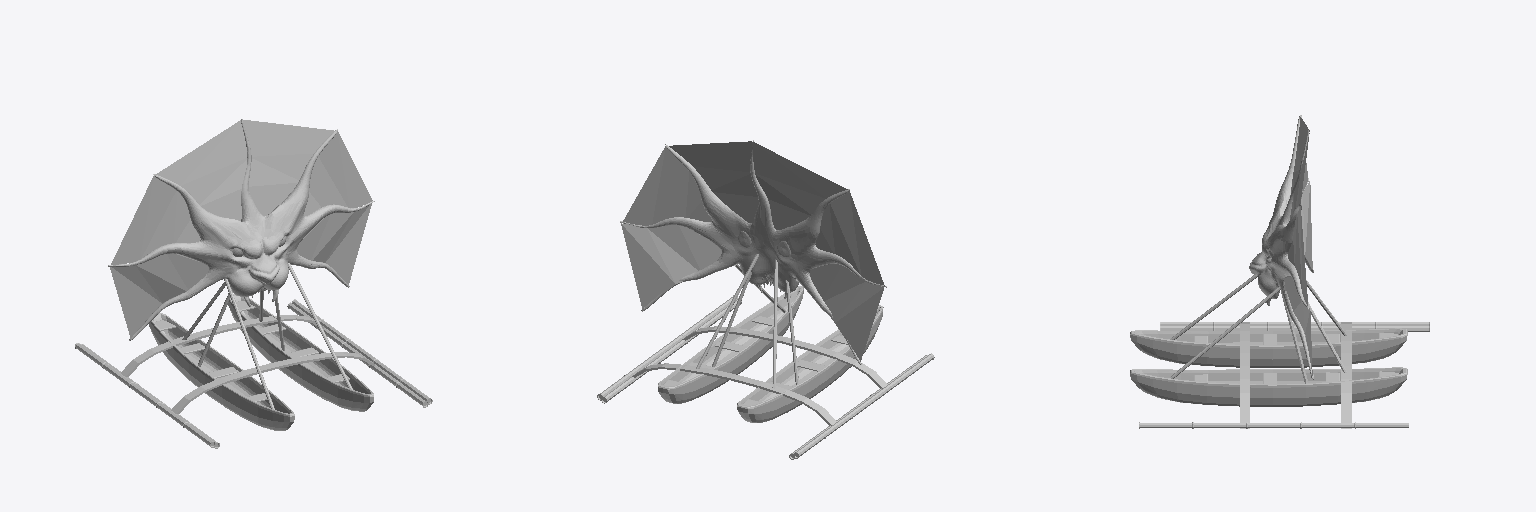
File: BTLionHead (1).obj
The picture shows the model from 3 angles: view 1: azimuth 30°, elevation 25°; view 2: azimuth 150°, elevation 25°; view 3: azimuth 270°, elevation 25°; orthographic projection.
Parts seen in each view (by area): view 1: Group17134; view 2: Group17134; view 3: Group17134.
Boxes of the visible parts, <box> form: Group17134: <box>75,119,432,448</box>; Group17134: <box>597,140,934,459</box>; Group17134: <box>1130,115,1429,428</box>.
Size of the model in its own units: 42.91 by 38.82 by 41.67.